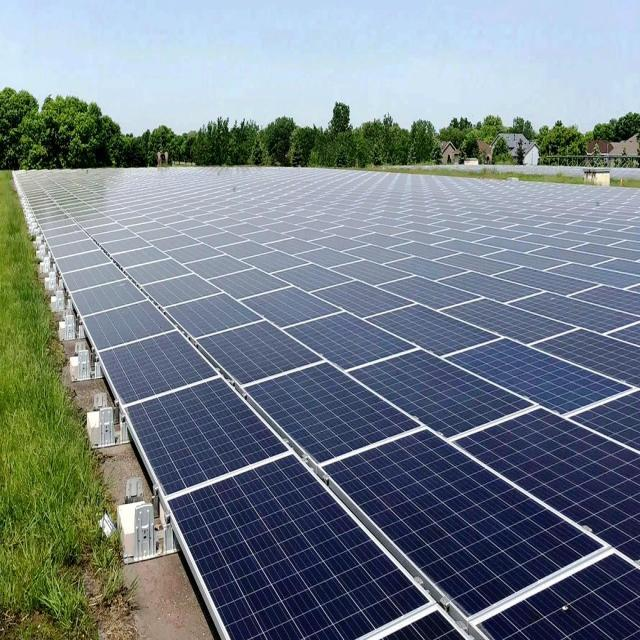no faulty: (314, 426, 610, 618), (166, 450, 423, 640), (120, 375, 284, 503), (243, 360, 425, 464), (340, 347, 540, 433), (444, 338, 634, 424), (97, 328, 217, 410)
